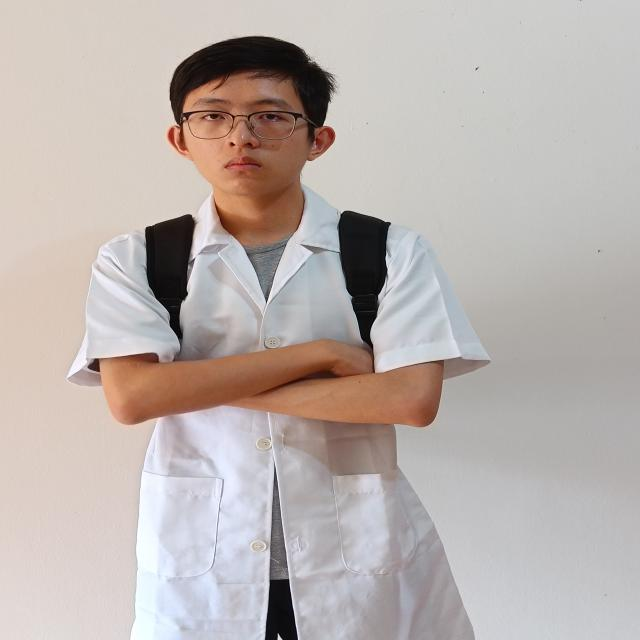person_with_labcoat: (69, 37, 489, 640)
